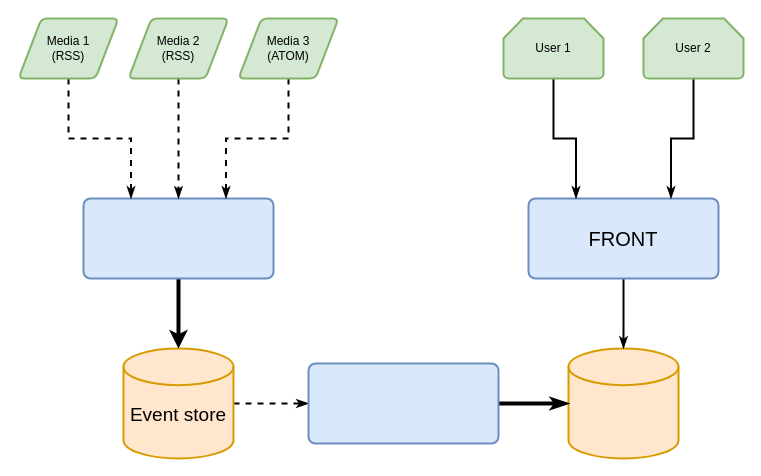
Some shapes in this 761 by 476 pixel diagram are drawn without their labels. The shapes that lost their labels are listed below. From the top down, each one's centre as x and y in pixels, then its label:
point (178, 238): Feed aggregator (RSS & ATOM)
point (403, 403): Projections synchronizer
point (623, 403): SQL database (read models)
